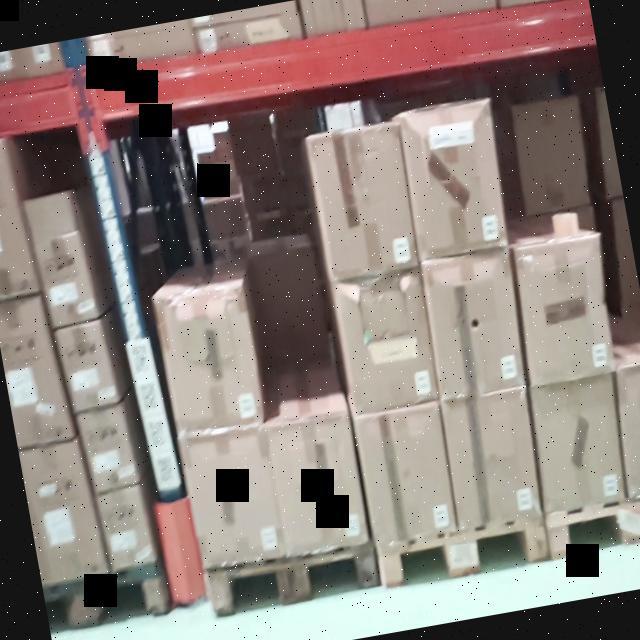box: (304, 120, 422, 286), (397, 100, 512, 262), (332, 274, 442, 419), (423, 251, 529, 398), (157, 292, 262, 438), (510, 240, 616, 376), (262, 412, 364, 552), (182, 430, 284, 567), (442, 390, 540, 519), (531, 377, 625, 509), (358, 410, 454, 536)
